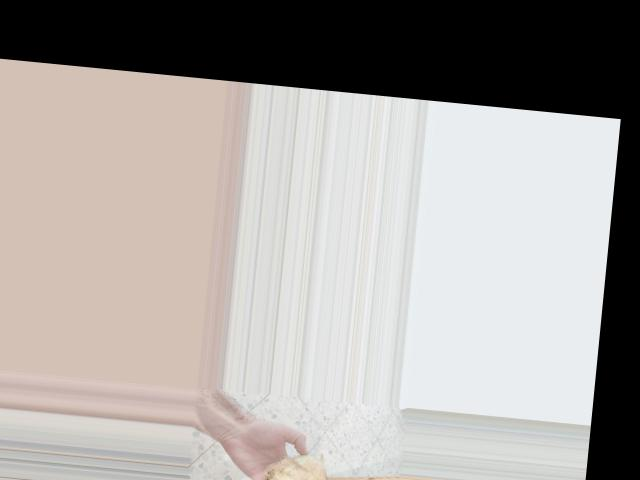onion: (264, 450, 334, 480)
